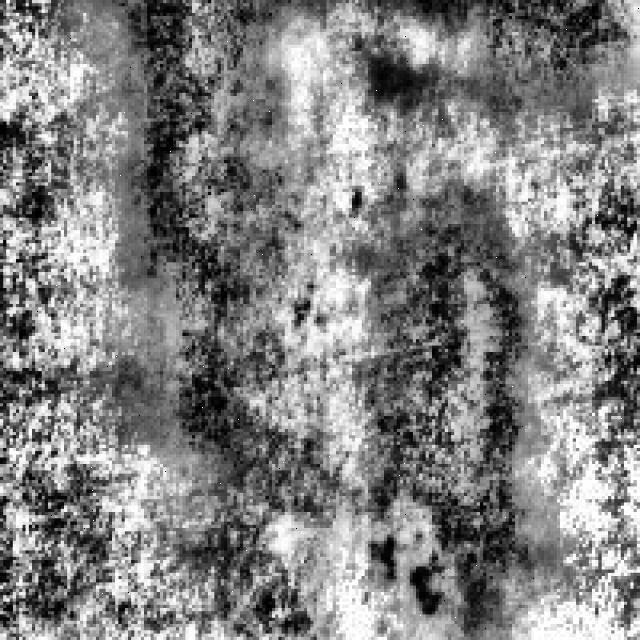Scratches: (102, 0, 298, 493), (364, 205, 518, 618), (374, 0, 637, 106)
